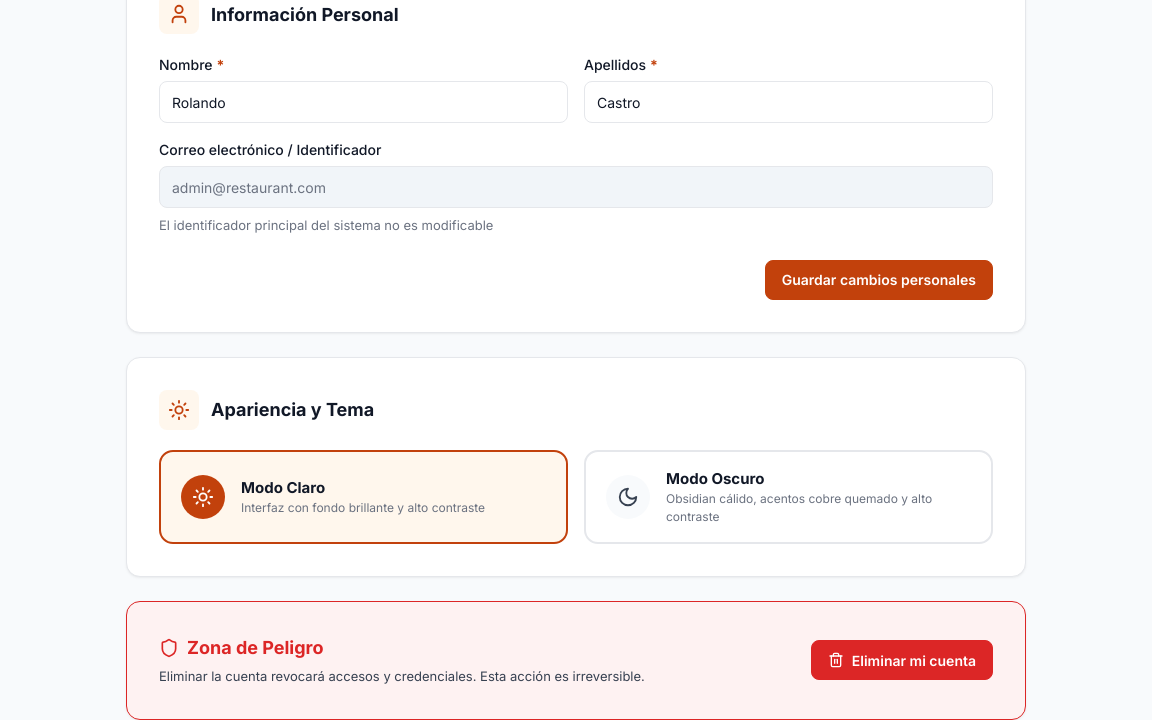
Scenario: ProfileSettingsView Component › opens danger zone confirmation modal and requires typing ELIMINAR
(page scrolled)
Click the button "Eliminar mi cuenta" at {"x": 902, "y": 660}, box top-left (811, 640), bottom-right (993, 680)
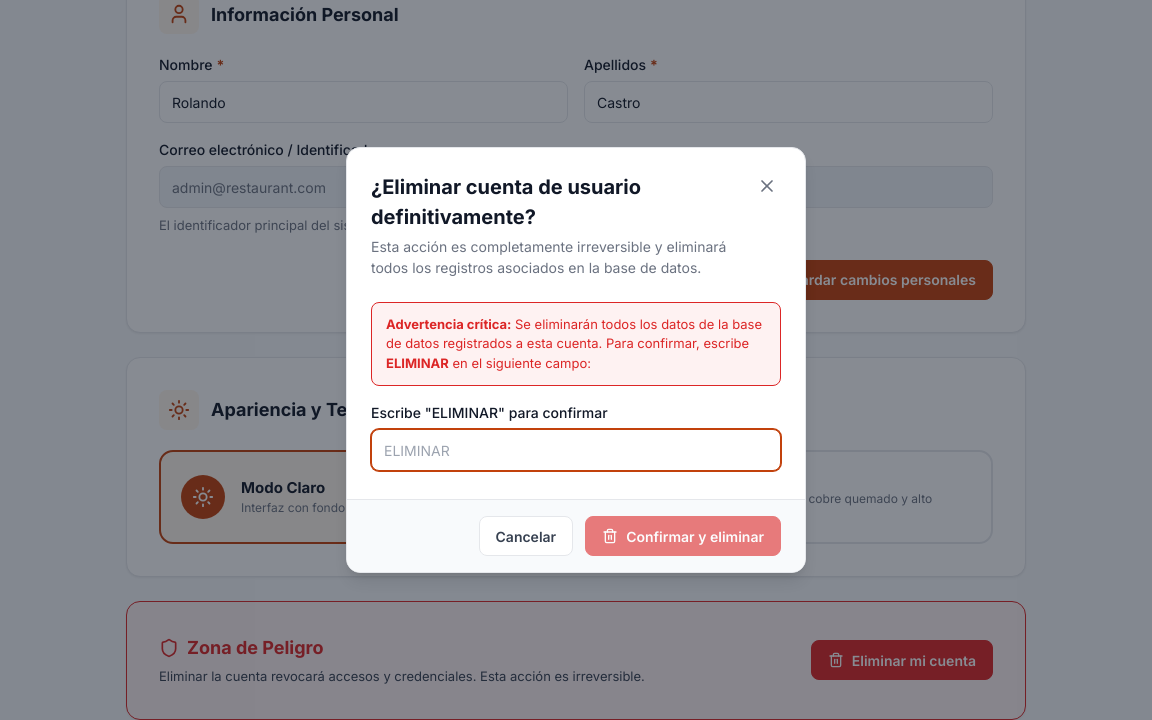
Check: the heading "¿Eliminar cuenta de usuario definitivamente?" is shown, box top-left (371, 175), bottom-right (641, 229)
Check: the button "Confirmar y eliminar" is disabled, box top-left (585, 516), bottom-right (781, 556)
Type "eliminar" into the field with placeholder "ELIMINAR" at {"x": 576, "y": 450}, box top-left (372, 430), bottom-right (780, 470)
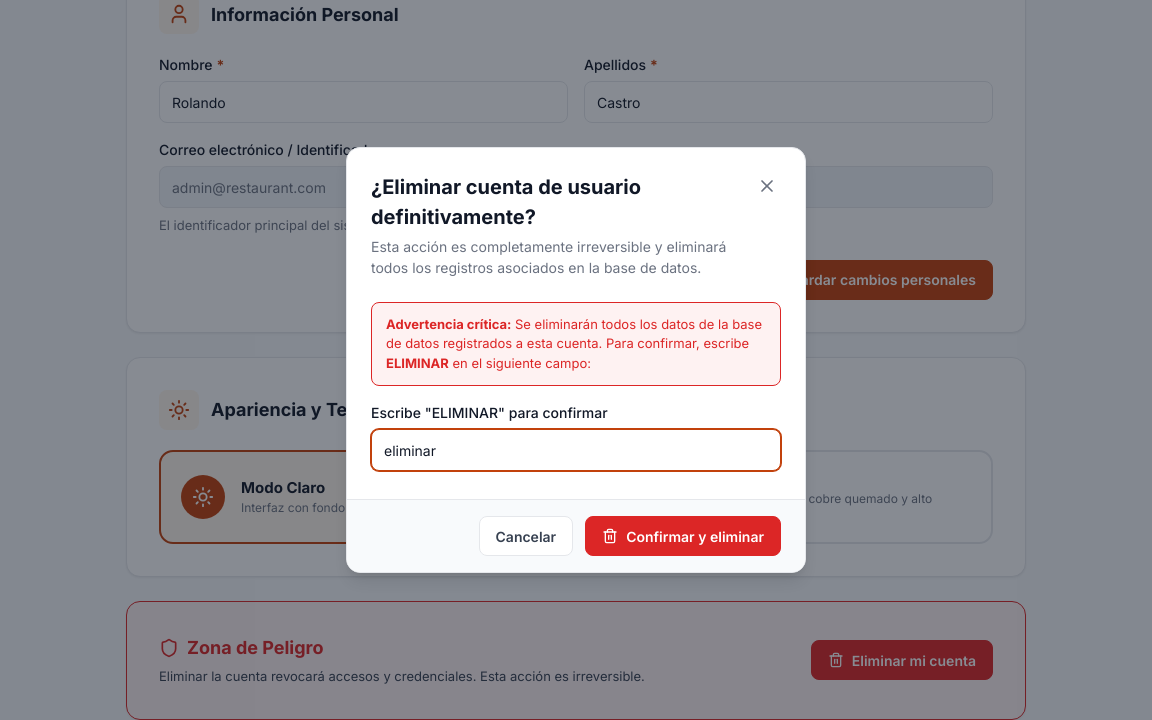
Check: the button "Confirmar y eliminar" is enabled, box top-left (585, 516), bottom-right (781, 556)
